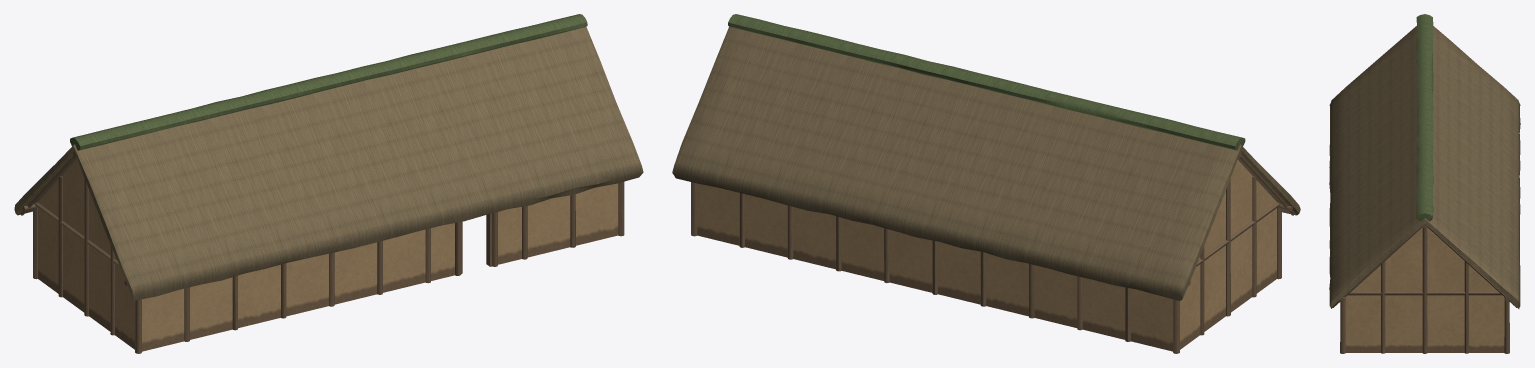
The model's file is house_004_plain.glb.
3 views of the same model, side by side, from view 1: azimuth 30°, elevation 25°; view 2: azimuth 150°, elevation 25°; view 3: azimuth 270°, elevation 25° (orthographic). The views are drawn at different scales.
Parts seen in each view (by area): view 1: Roof, Wall, Frame; view 2: Roof, Wall, Frame; view 3: Roof, Wall, Frame.
Part boxes in pixels (bbox=[...]): Roof: bbox=[14, 14, 643, 300]; Wall: bbox=[38, 159, 618, 351]; Frame: bbox=[20, 151, 624, 353]; Roof: bbox=[672, 14, 1300, 300]; Wall: bbox=[697, 160, 1276, 351]; Frame: bbox=[691, 151, 1294, 353]; Roof: bbox=[1329, 14, 1520, 308]; Wall: bbox=[1345, 227, 1504, 352]; Frame: bbox=[1333, 223, 1516, 353].
Bounding box in the file's own units: 15.9 × 5.35 × 6.4.
Materials: 4 (3 with a texture image).
